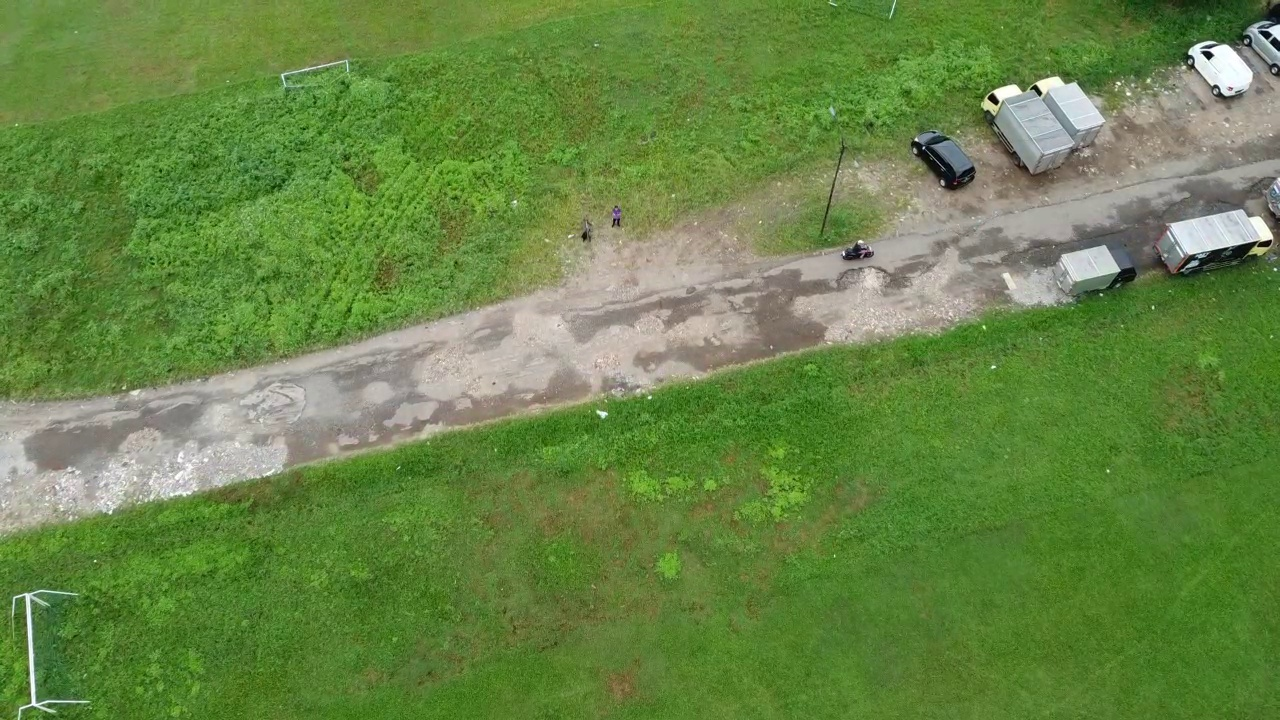mobil: (897, 121, 978, 202), (1180, 31, 1256, 103), (1235, 9, 1280, 82)
